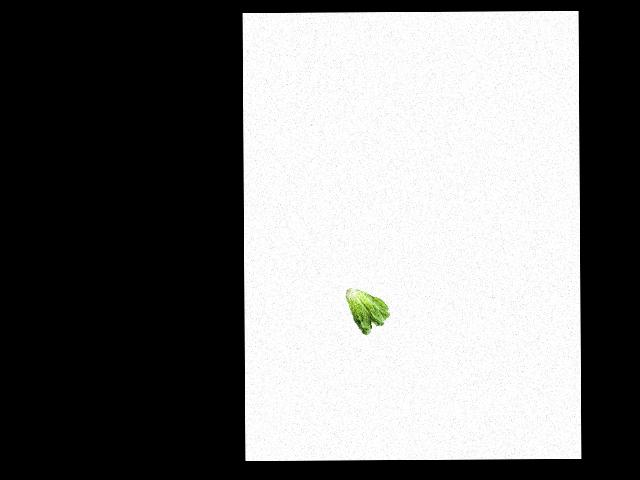lettuce: (344, 286, 396, 335)
